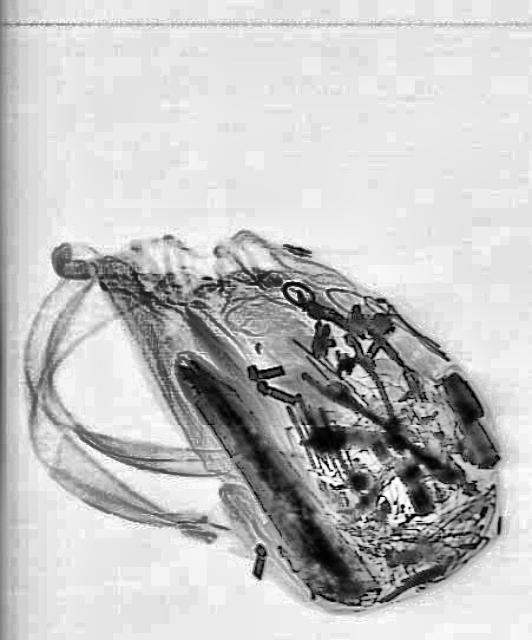Pliers: (298, 324, 432, 468)
